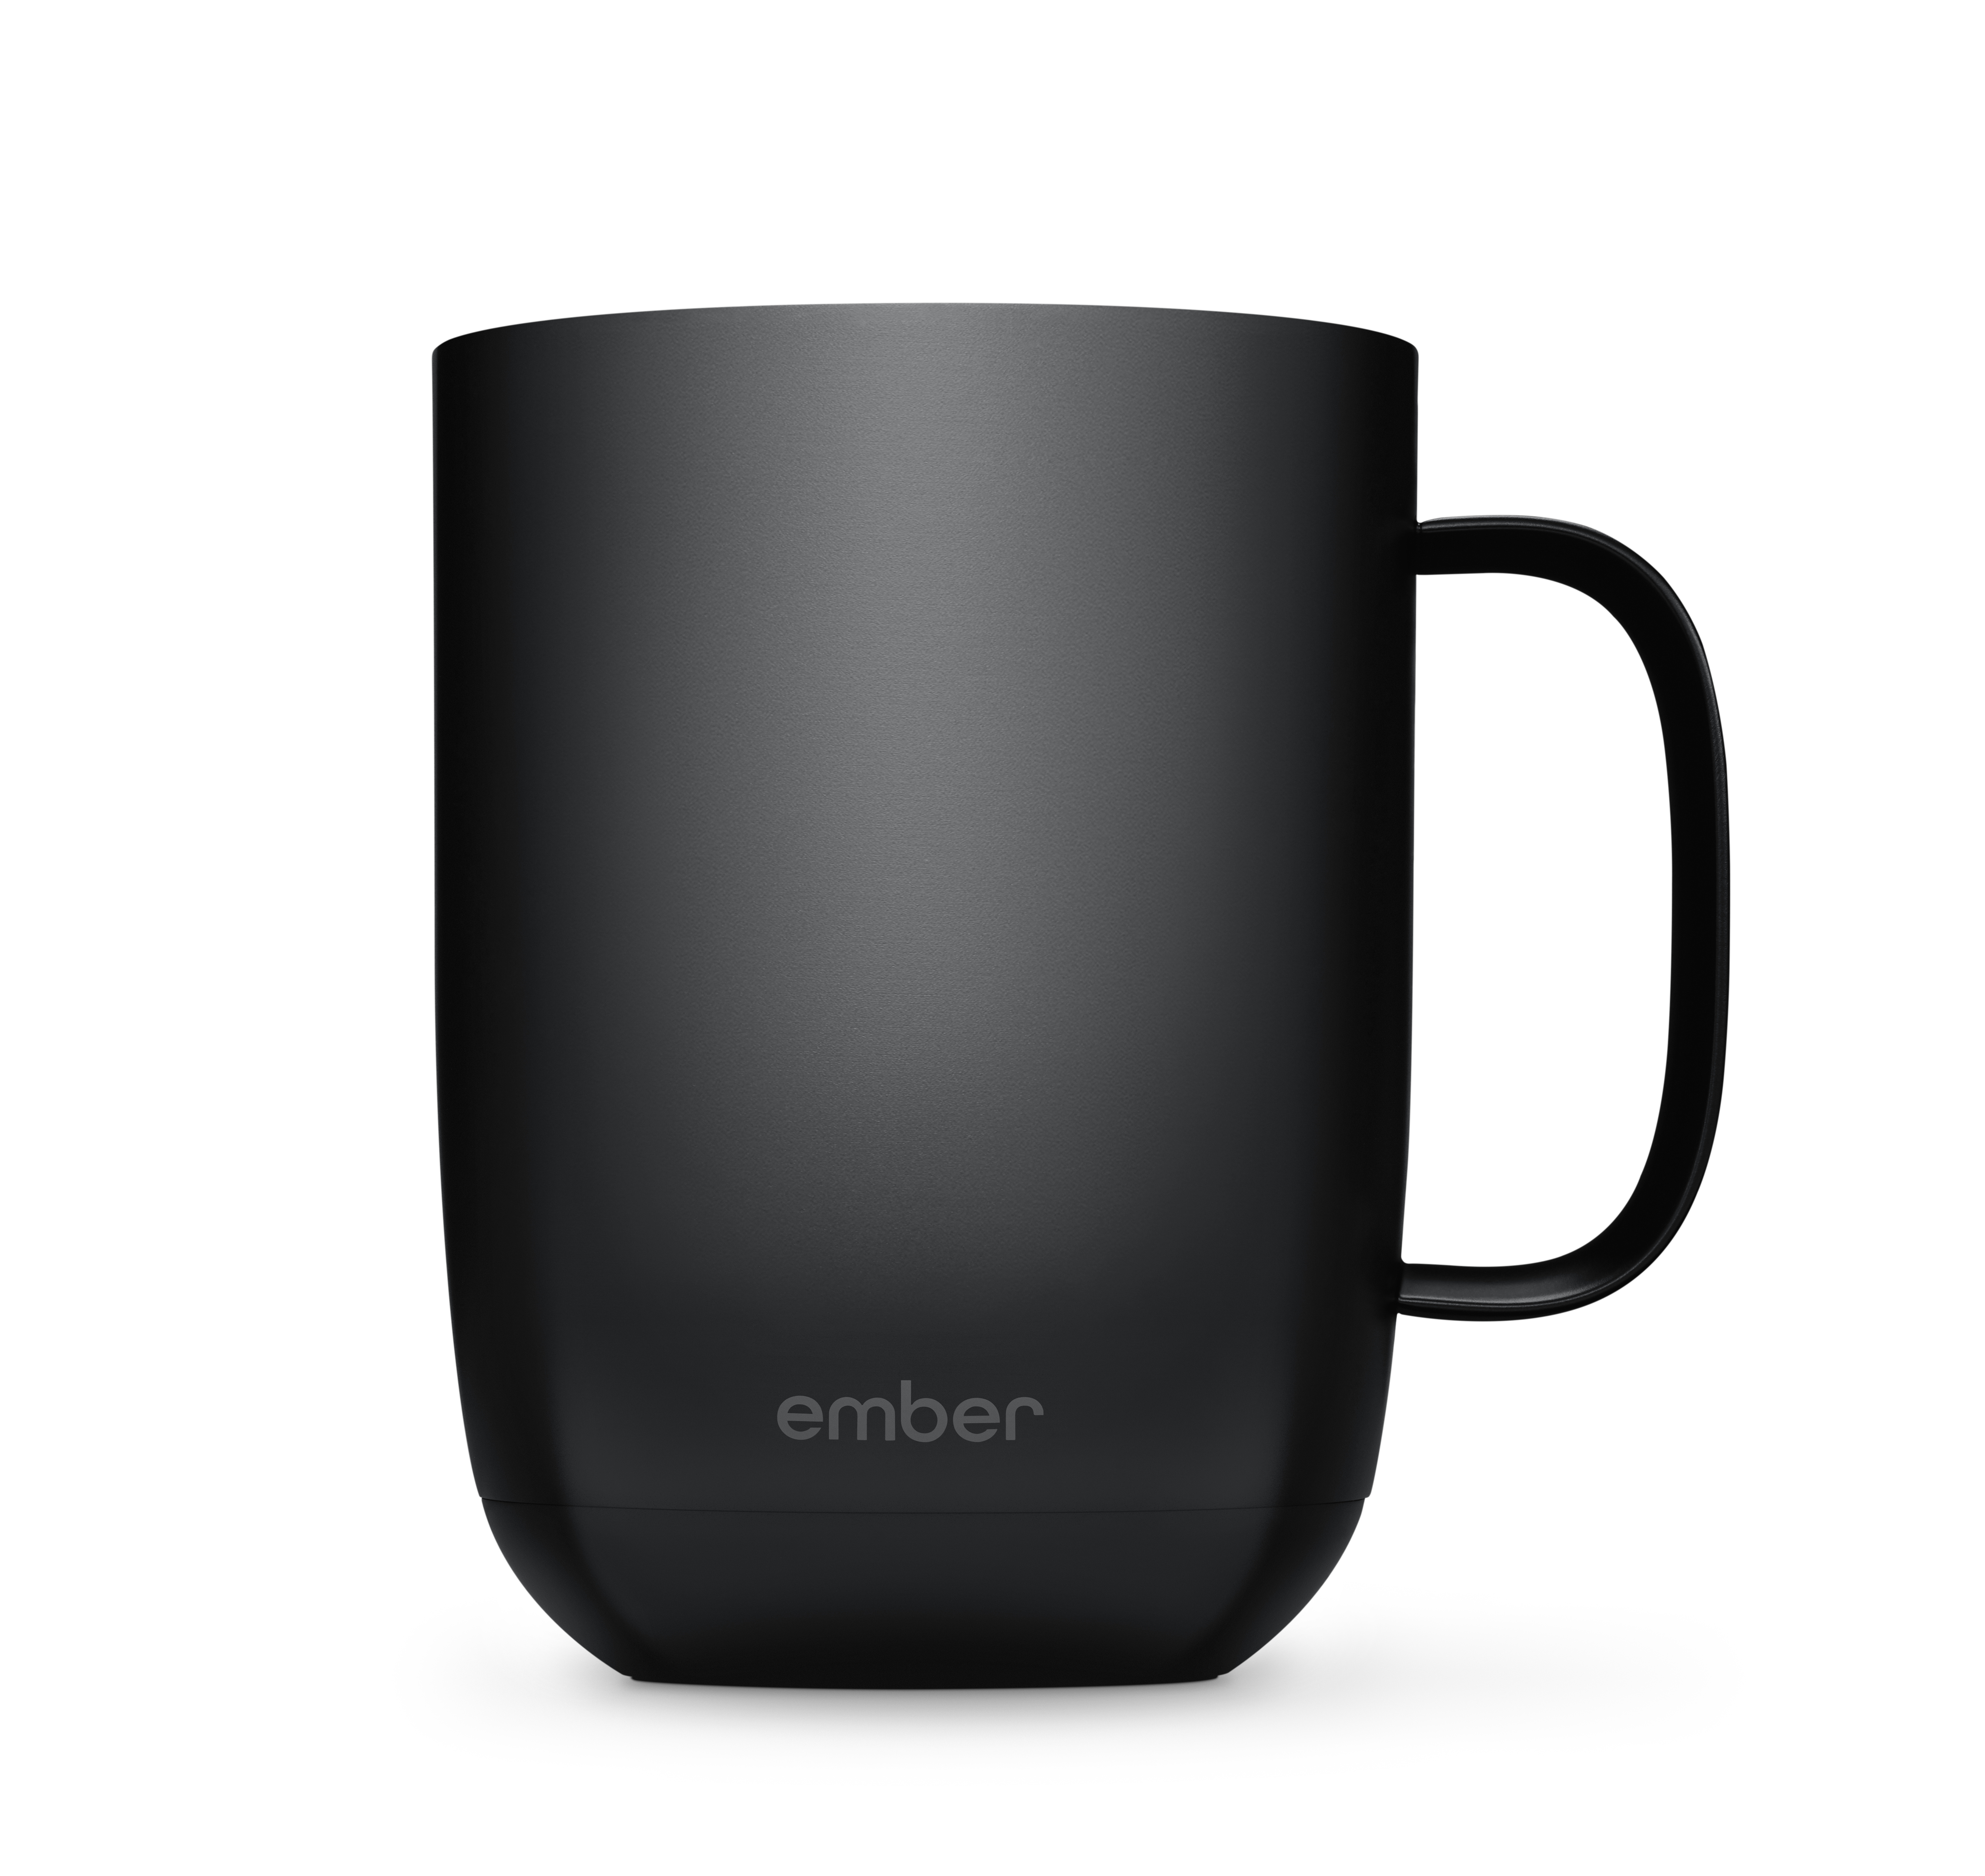gelas: (425, 298, 1729, 1696)
